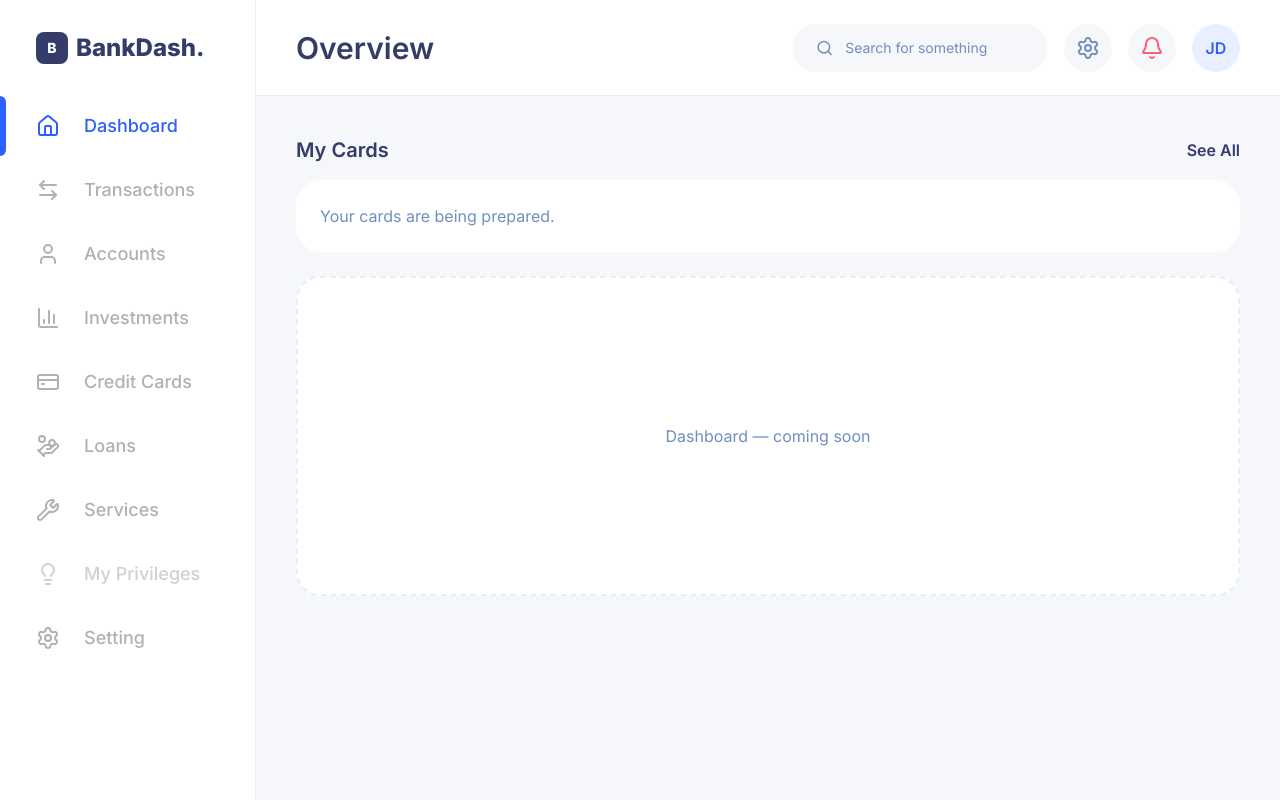
Test: AppLayout › closes the account menu with Escape
This screenshot has width=1280, height=800.
Click the button with aria-label "Account menu": click(1216, 48) [1192,24,1240,72]
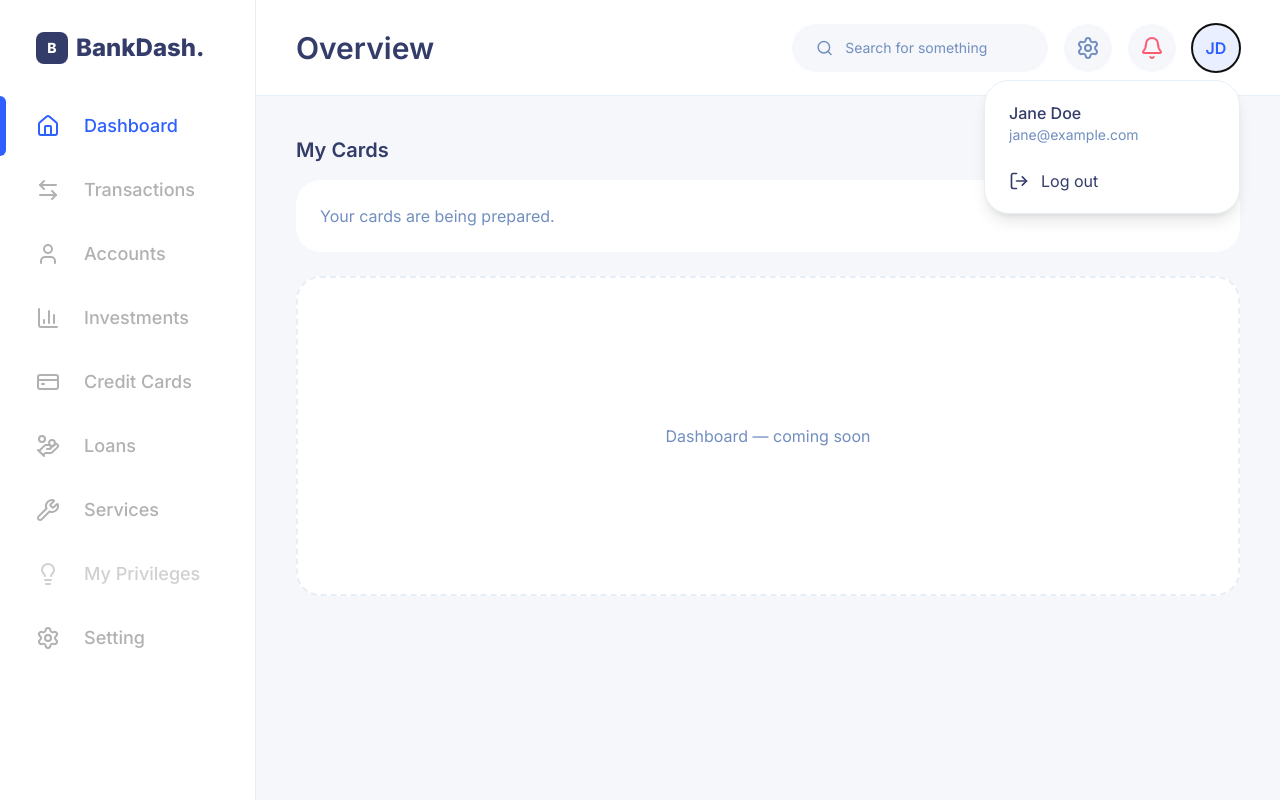
Press Escape
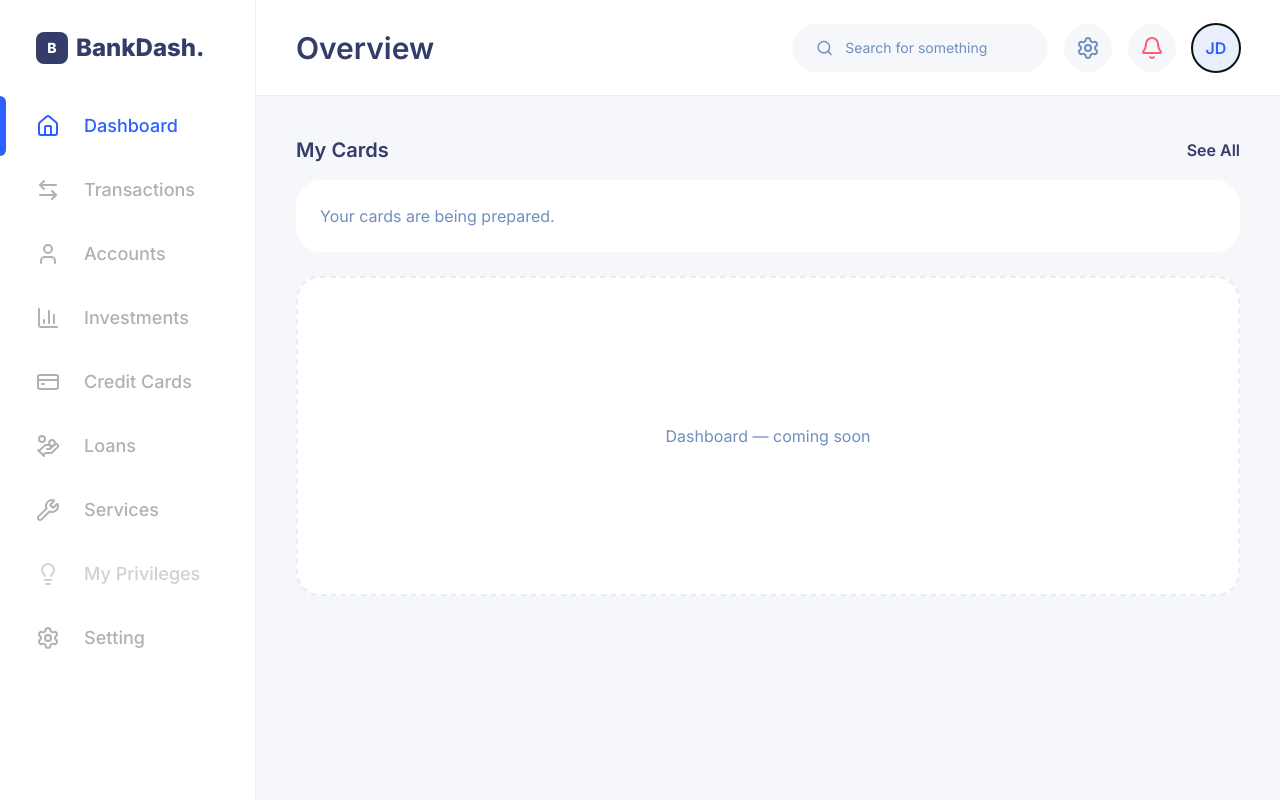
Result: the menu is gone
